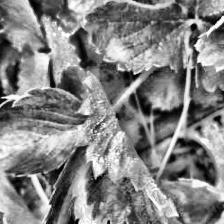Powdery Mildew Leaf: (75, 70, 179, 224), (42, 144, 108, 224), (193, 0, 224, 73)
